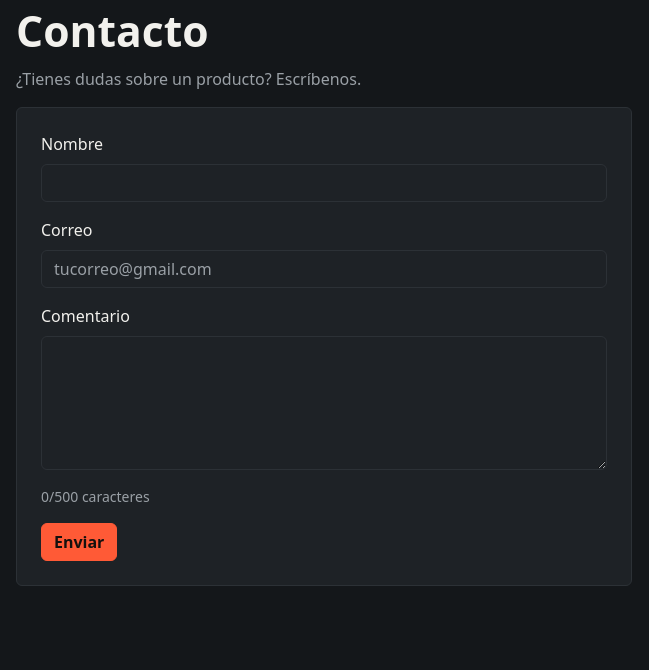
Contacto › corrige los errores, envia y limpia el formulario
Click the button "Enviar".
click(79, 542)  # box [41,523,117,561]
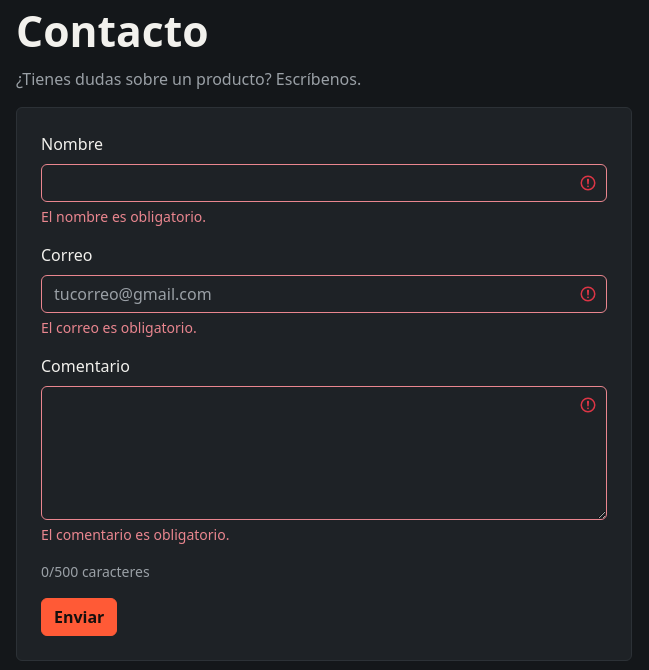
Now the number of elements with class "invalid-feedback" is 3, box [41,207,206,226]; [41,318,197,337]; [41,525,229,544]
Type "Marco" into the field labelled "Nombre".
click(324, 183); type("Marco")  # box [41,164,607,202]
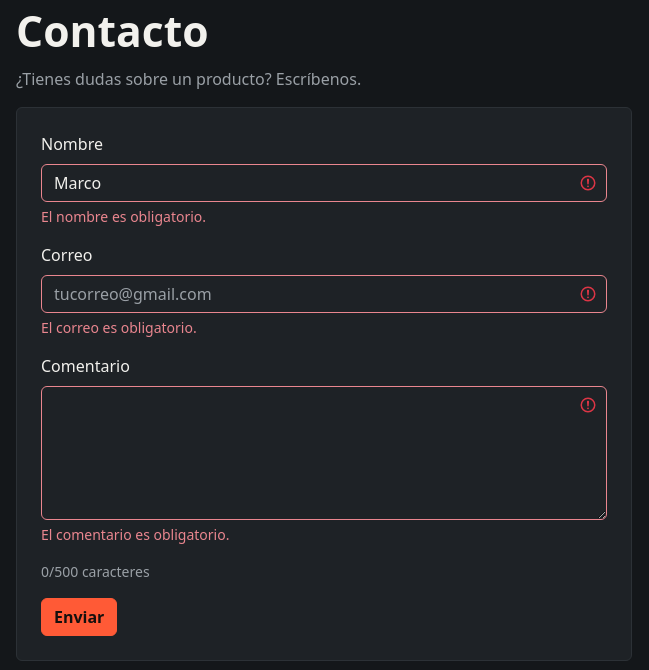
Type "marco@duocuc.cl" into the field labelled "Correo".
click(324, 294); type("marco@duocuc.cl")  # box [41,275,607,313]
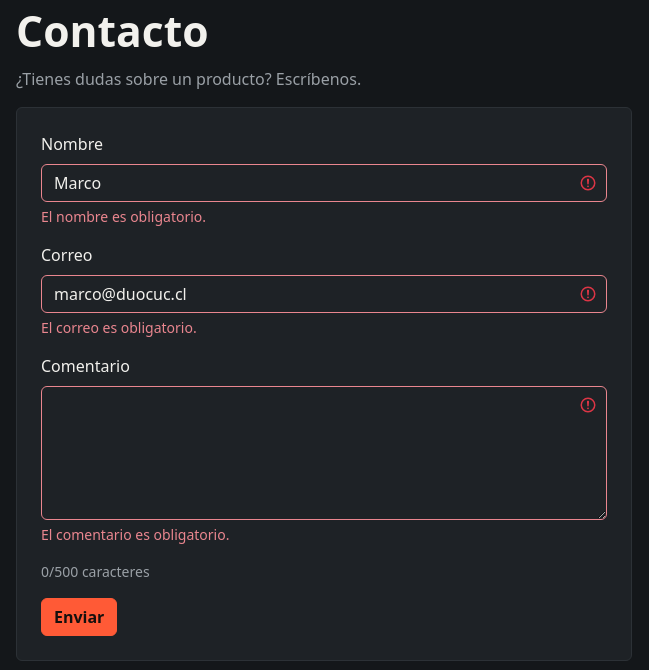
Type "Consulta por stock" into the text box labelled "Comentario".
click(324, 453); type("Consulta por stock")  # box [41,386,607,520]
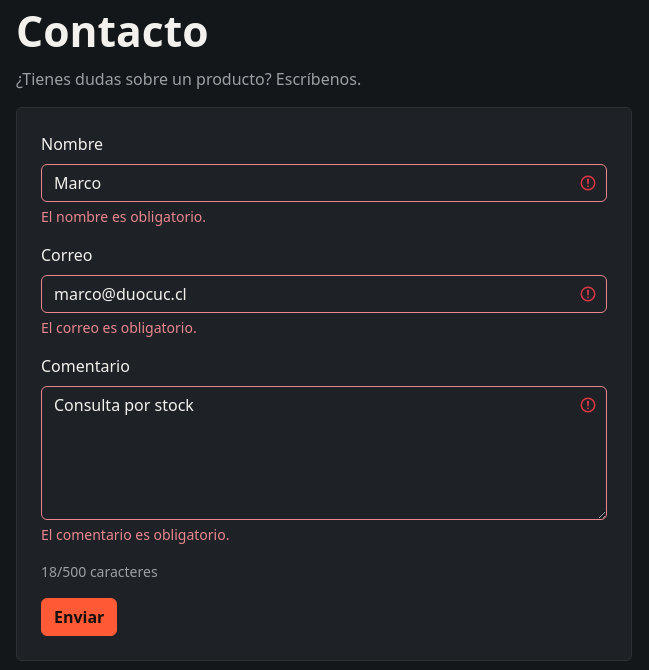
Click the button "Enviar".
click(79, 617)  # box [41,598,117,636]
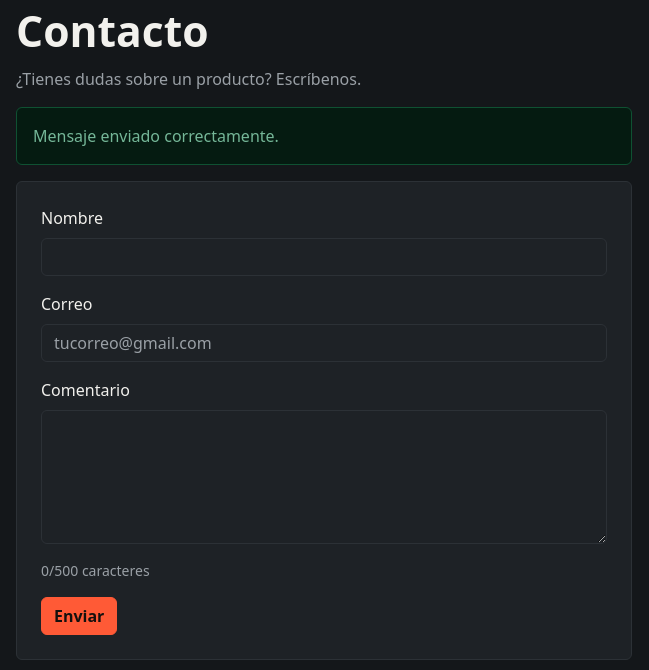
Now no elements with class "invalid-feedback" are shown
Now the message reads "Mensaje enviado correctamente.", box [33,125,279,147]
Now the text box labelled "Comentario" is empty, box [41,410,607,544]
